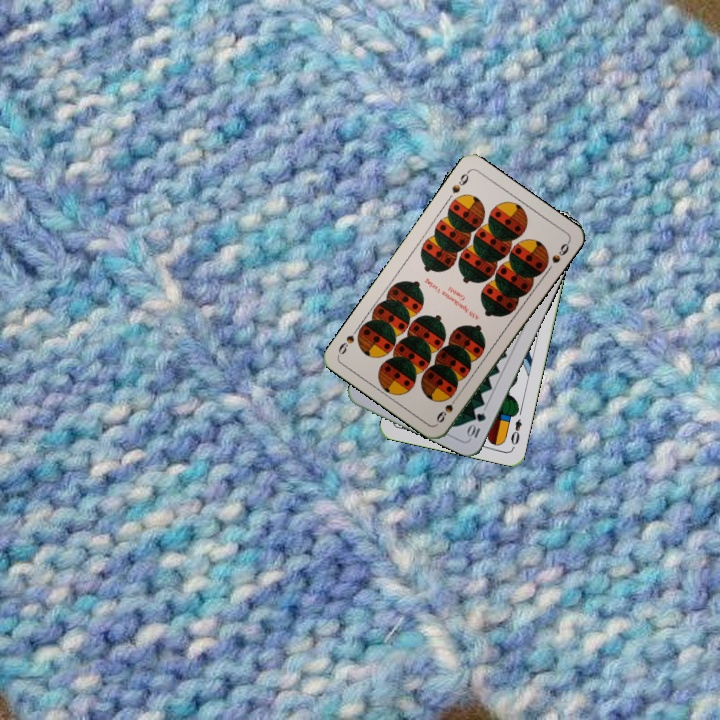EO: (507, 415, 524, 450)
G10: (463, 408, 489, 441)
S9: (432, 391, 462, 425), (447, 167, 472, 196)
